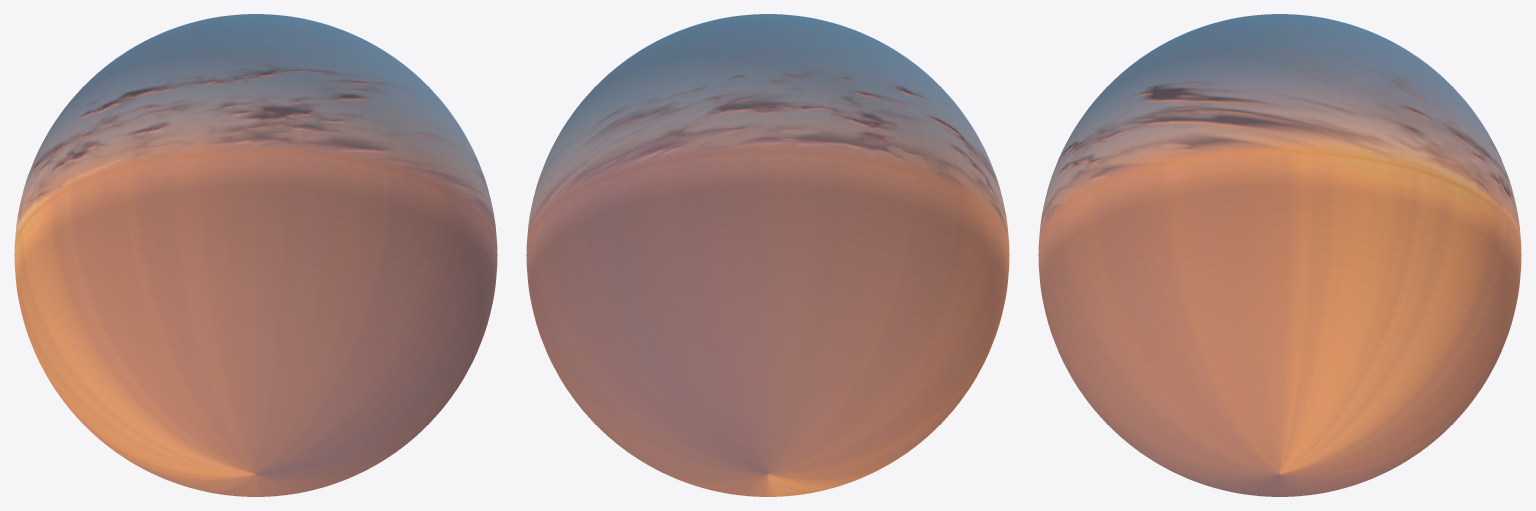
Rendered from sky_dome_v5_dusk.glb.
The picture shows the model from 3 angles, left to right: view 1: azimuth 30°, elevation 25°; view 2: azimuth 150°, elevation 25°; view 3: azimuth 270°, elevation 25°; orthographic projection.
Parts seen in each view (by area): view 1: sky_dome_v5_dusk; view 2: sky_dome_v5_dusk; view 3: sky_dome_v5_dusk.
Part boxes in pixels (<box>): sky_dome_v5_dusk: <box>14,14,497,496</box>; sky_dome_v5_dusk: <box>526,14,1009,496</box>; sky_dome_v5_dusk: <box>1038,14,1521,496</box>.
Size of the model in its own units: 7600 by 7600 by 7600.
Materials: 1 (1 with a texture image).
